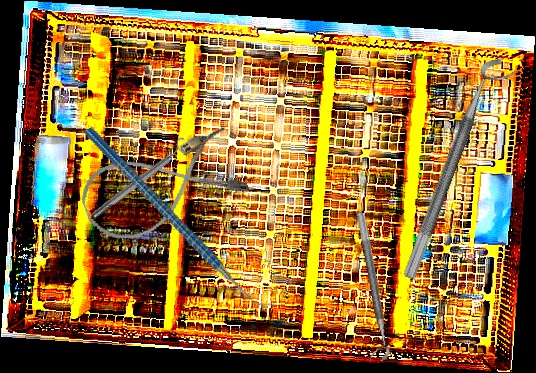Cannula: (73, 122, 252, 252)
Chopper: (83, 87, 278, 348)
Fixation Ring: (401, 52, 519, 288), (87, 136, 194, 223), (343, 212, 392, 363)
